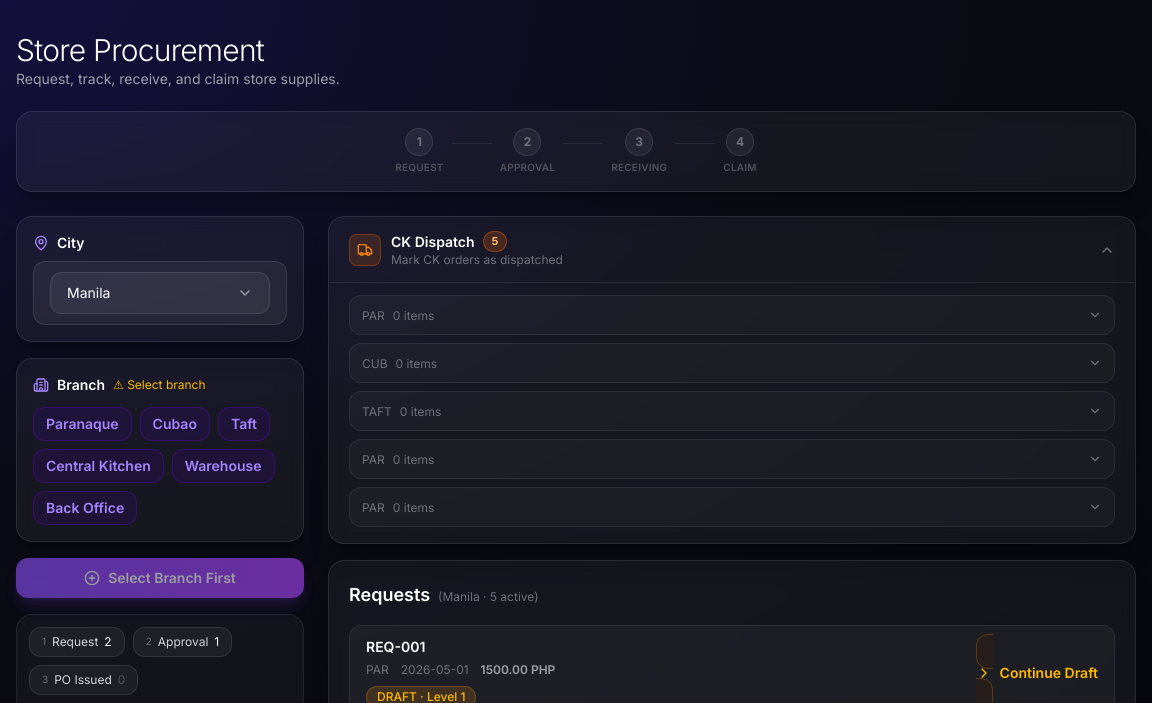
Test case: StoreProcurementHomePage › RequestDetailDrawer › shows urgent flag banner when urgent_flag is true
What coordinates should you click on to do the following:
click the text "REQ-001"
I would click on:
 (396, 647)
Its box is x1=366 y1=638 x2=425 y2=656.
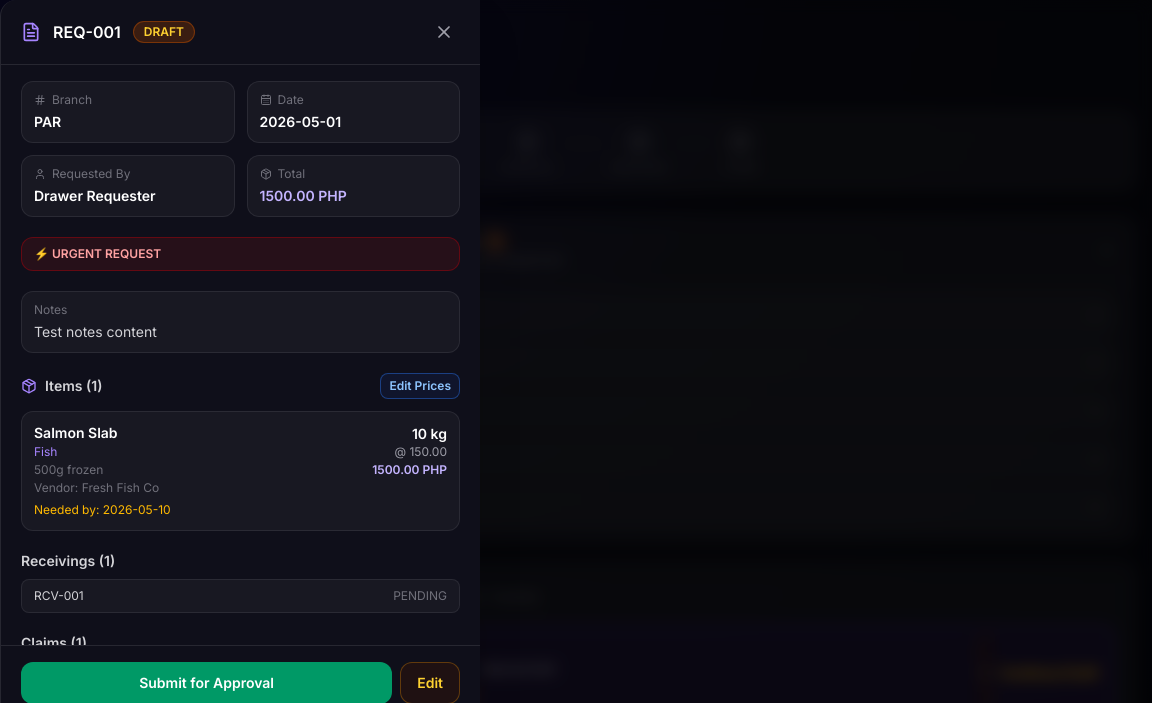
Expected: the text "⚡ URGENT REQUEST" is shown, x1=21 y1=237 x2=460 y2=271
